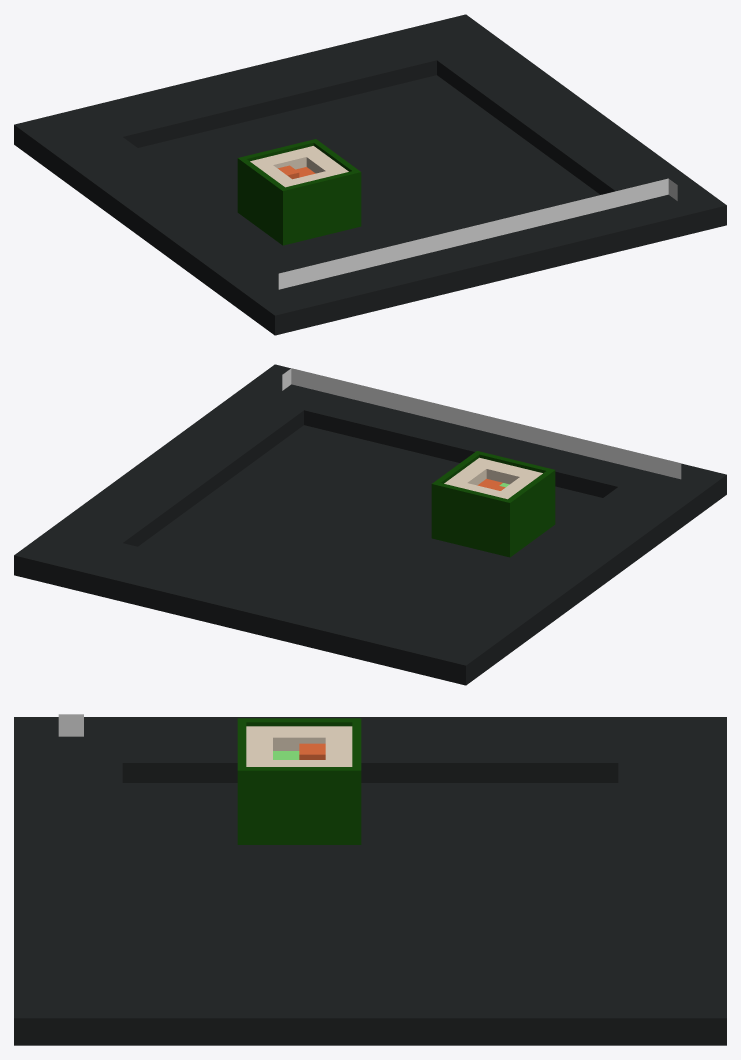
File: sushi.glb
3 renders of one model, top to bottom at view 1: azimuth 30°, elevation 25°; view 2: azimuth 150°, elevation 25°; view 3: azimuth 270°, elevation 25°, orthographic. The views are drawn at different scales.
Visible parts, largest first — view 1: Plate, Sushi, Cube; view 2: Plate, Sushi, Cube; view 3: Plate, Sushi, Cube.
Boxes of the visible parts, x1,y1,x2,y2 form: Plate: (14,14,726,335); Sushi: (237,139,361,245); Cube: (278,178,677,289); Plate: (14,364,726,685); Sushi: (431,451,555,557); Cube: (282,368,681,479); Plate: (14,717,726,1045); Sushi: (237,718,361,844); Cube: (58,714,83,736).
Size of the model in its own units: 6.27 by 0.831 by 6.27.
